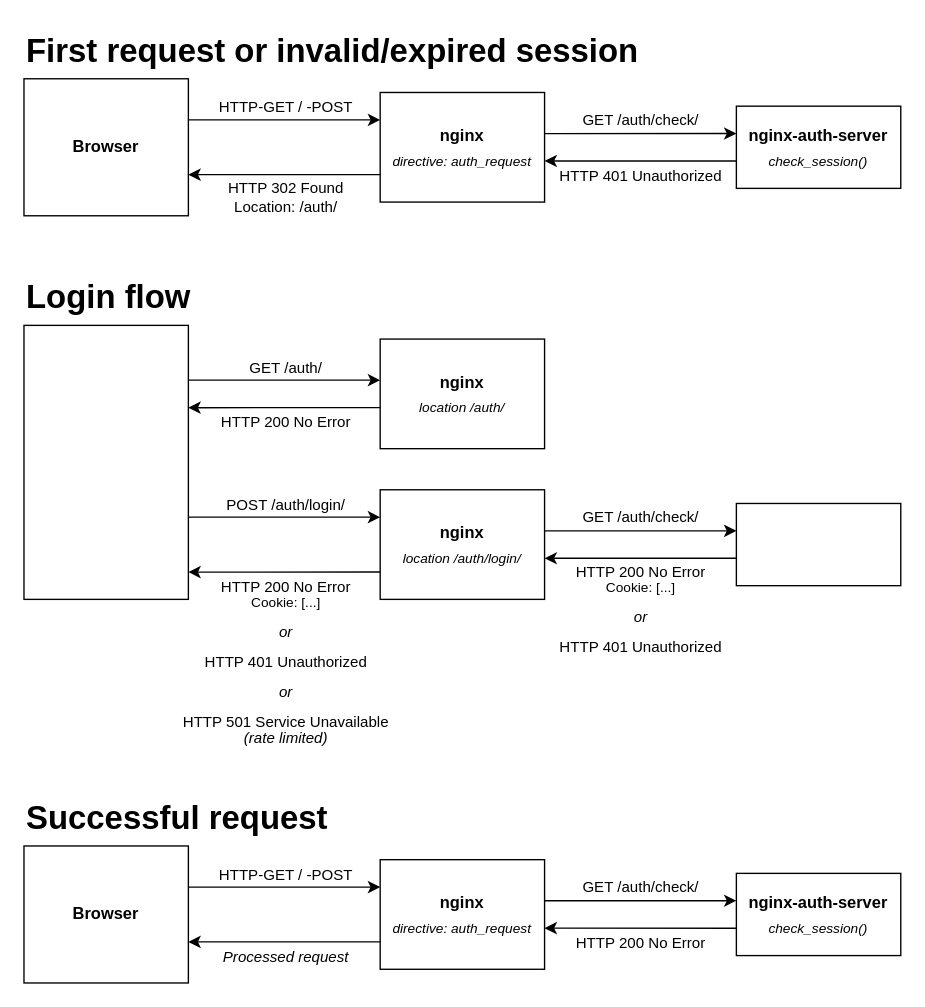
The diagram is 925 pixels wide and 1007 high, and some of its shapes have lost their labels. Here are the shapes that lost their labels. From the top down, the centre of each, then its label:
the point at 105,461: Browser /auth/index.html
the point at 818,544: nginx-auth-server handle_login()
